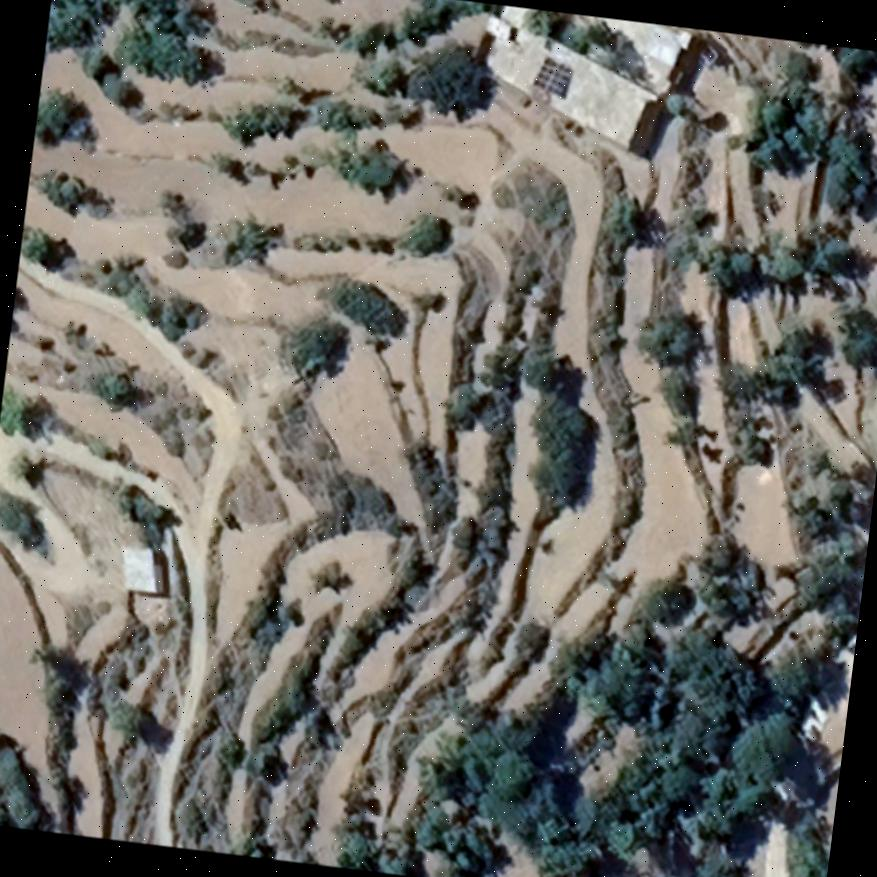Solarpanel: (530, 53, 576, 101)
